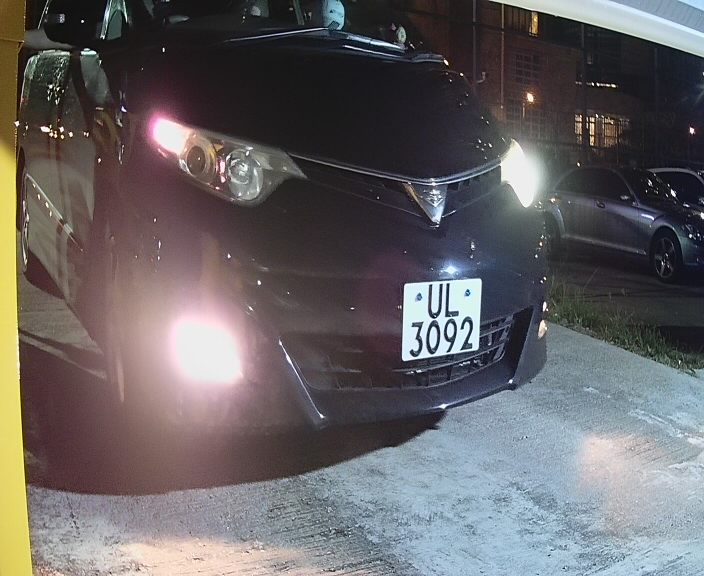Car: (3, 2, 562, 468)
License Plate: (398, 270, 490, 368)
